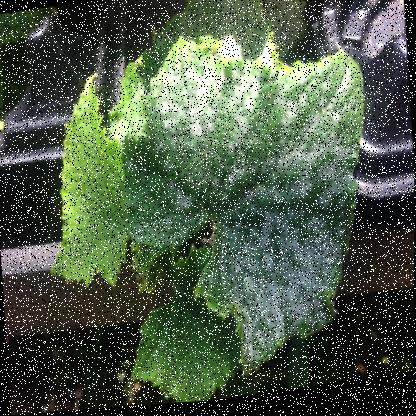PowderyMildew: (229, 205, 334, 311), (167, 77, 262, 190), (283, 96, 359, 206)
